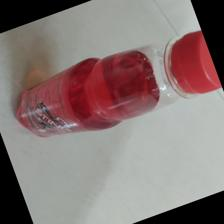Sting: (14, 30, 224, 139)
